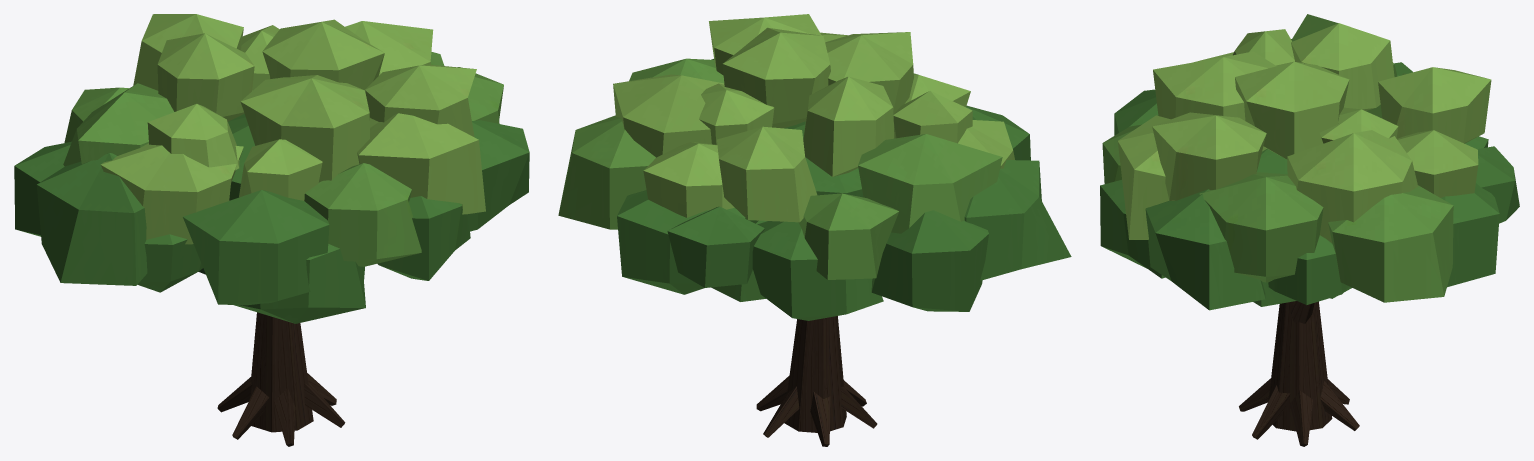
Rendered from tree_broadleaf_02.glb.
3 views of the same model, side by side, from view 1: azimuth 30°, elevation 25°; view 2: azimuth 150°, elevation 25°; view 3: azimuth 270°, elevation 25° (orthographic). The views are drawn at different scales.
Visible parts, largest first — view 1: tree_broadleaf_02; view 2: tree_broadleaf_02; view 3: tree_broadleaf_02.
Part boxes in pixels (<box>): tree_broadleaf_02: <box>14,14,529,446</box>; tree_broadleaf_02: <box>558,14,1071,446</box>; tree_broadleaf_02: <box>1100,14,1519,446</box>.
Size of the model in its own units: 6.74 by 5.58 by 5.61.
5 materials, 5 textured.
